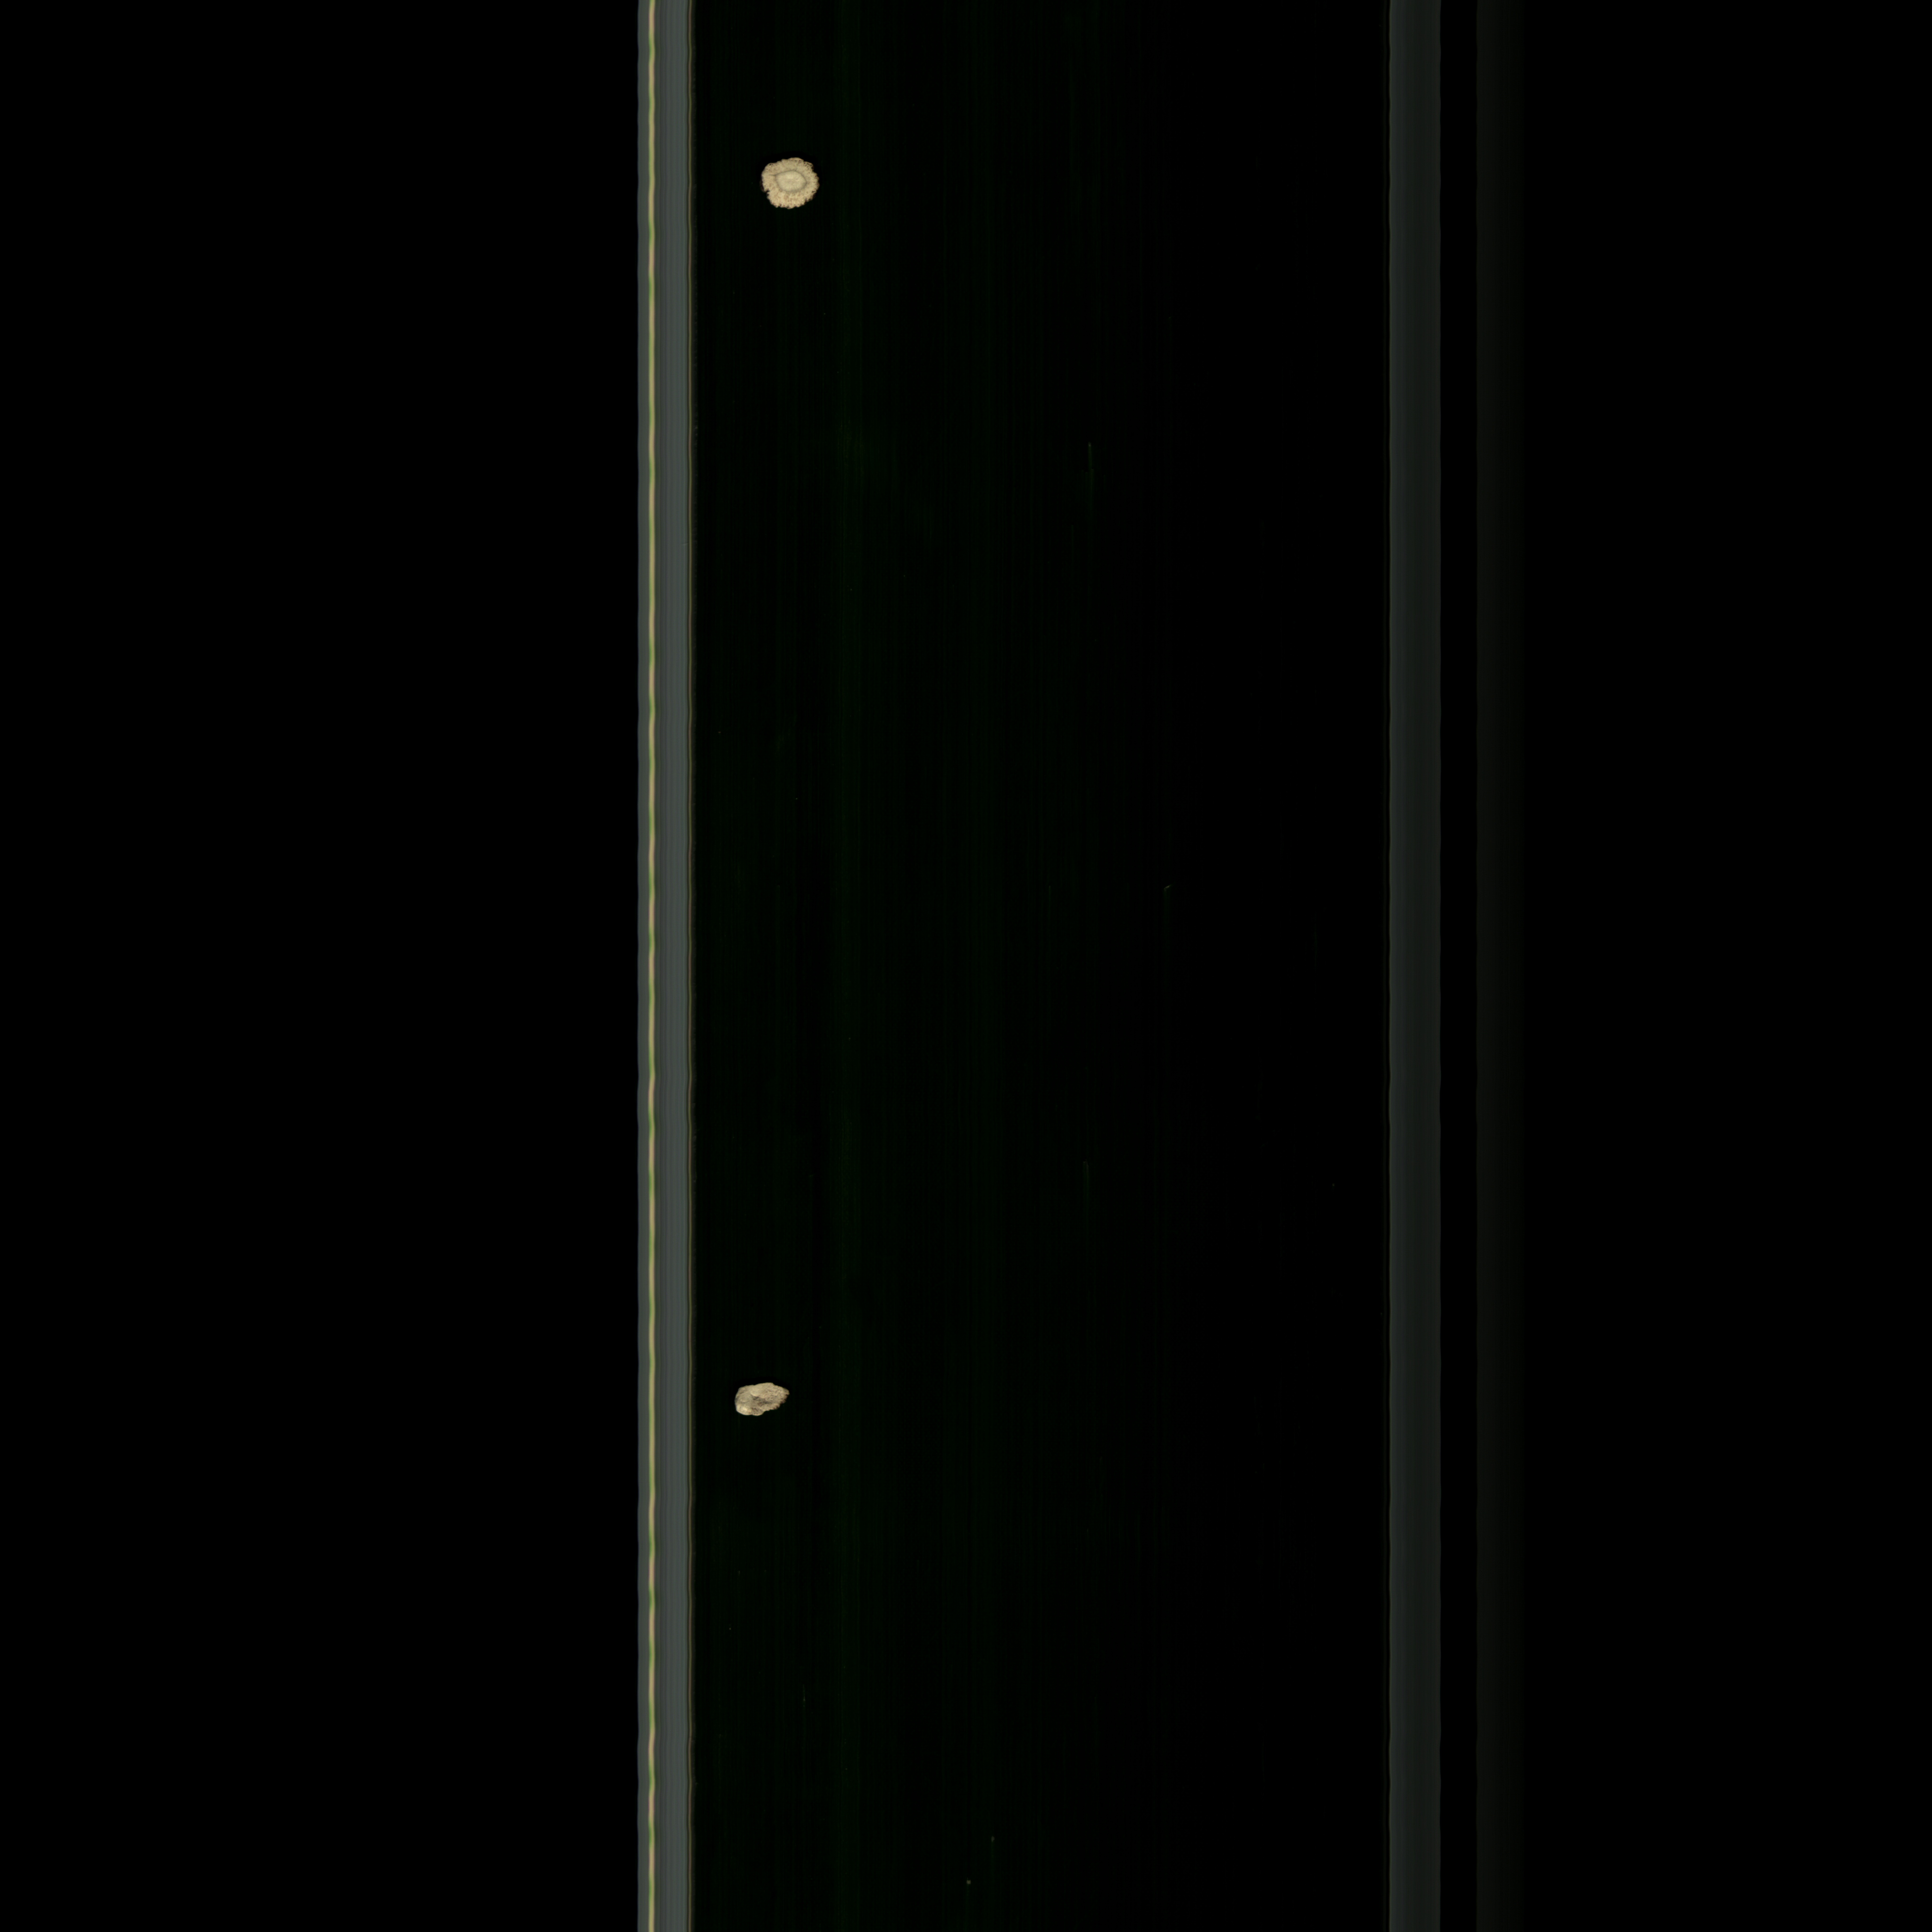debris: (722, 1376, 798, 1424)
distortion: (755, 154, 826, 214)
